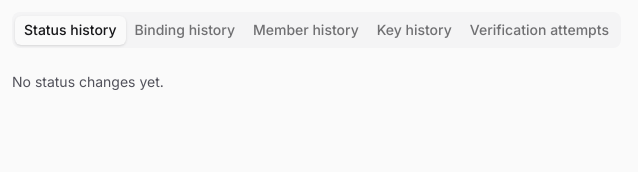
LicenceHistory (extra) › renders the verification outcome with the denial reason in the title
Click the tab "Verification attempts" at (539, 30), box [461,16,618,44]
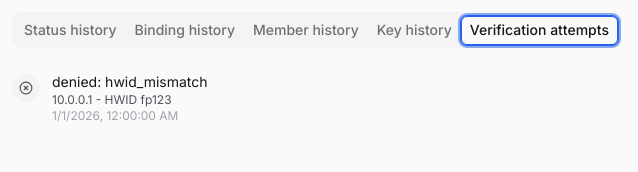
Expected: the text "denied: hwid_mismatch" is shown, [52,73,208,90]
Expected: the text "10.0.0.1 - HWID fp123" is shown, [52,92,172,107]
